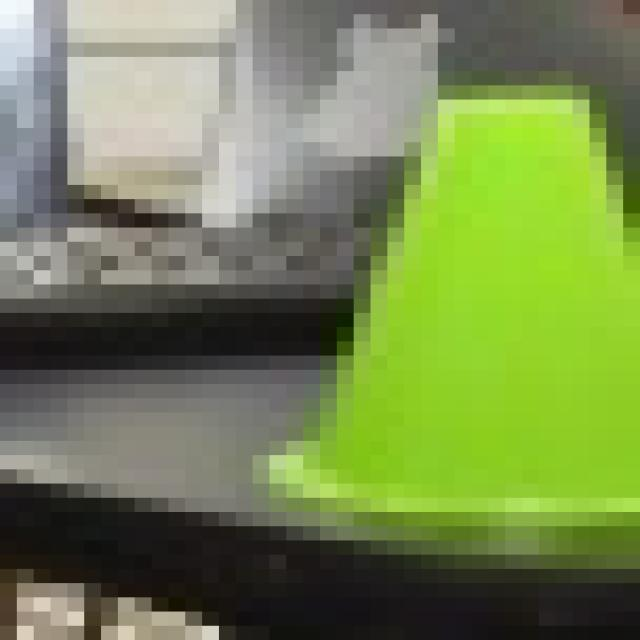cono: (253, 71, 623, 526)
